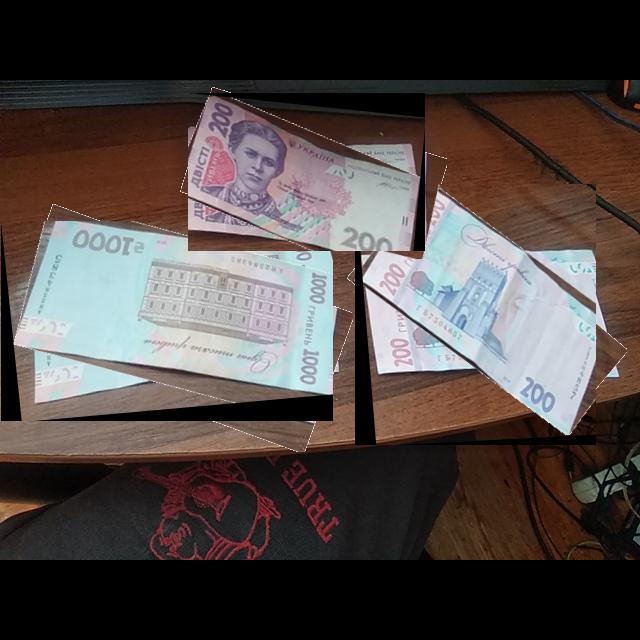1000uah: (12, 221, 334, 400)
200uah: (361, 184, 597, 438), (188, 95, 422, 252)
